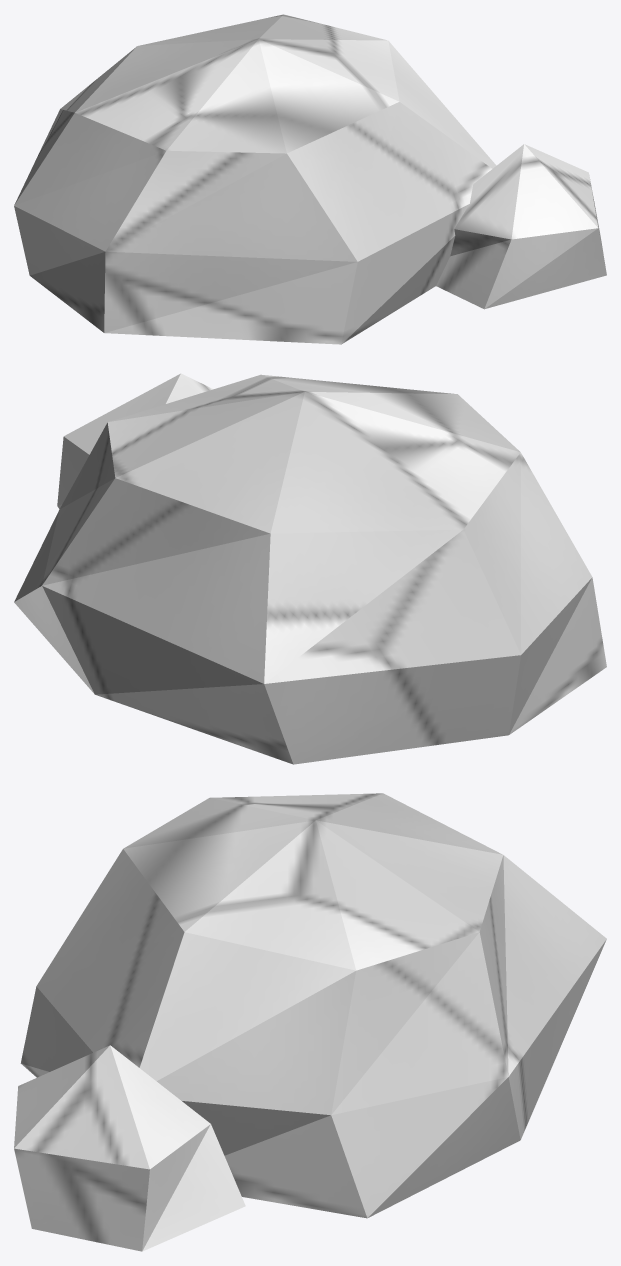
Rendered from boulder_2.obj.
The picture shows the model from 3 angles, top to bottom: view 1: azimuth 30°, elevation 25°; view 2: azimuth 150°, elevation 25°; view 3: azimuth 270°, elevation 25°; orthographic projection. The views are drawn at different scales.
Visible parts, largest first — view 1: boulder_2; view 2: boulder_2; view 3: boulder_2.
Part boxes in pixels (bbox=[...]): boulder_2: bbox=[14, 14, 606, 344]; boulder_2: bbox=[14, 373, 606, 764]; boulder_2: bbox=[14, 793, 606, 1251].
Size of the model in its own units: 0.835 by 0.3479 by 0.7069.
